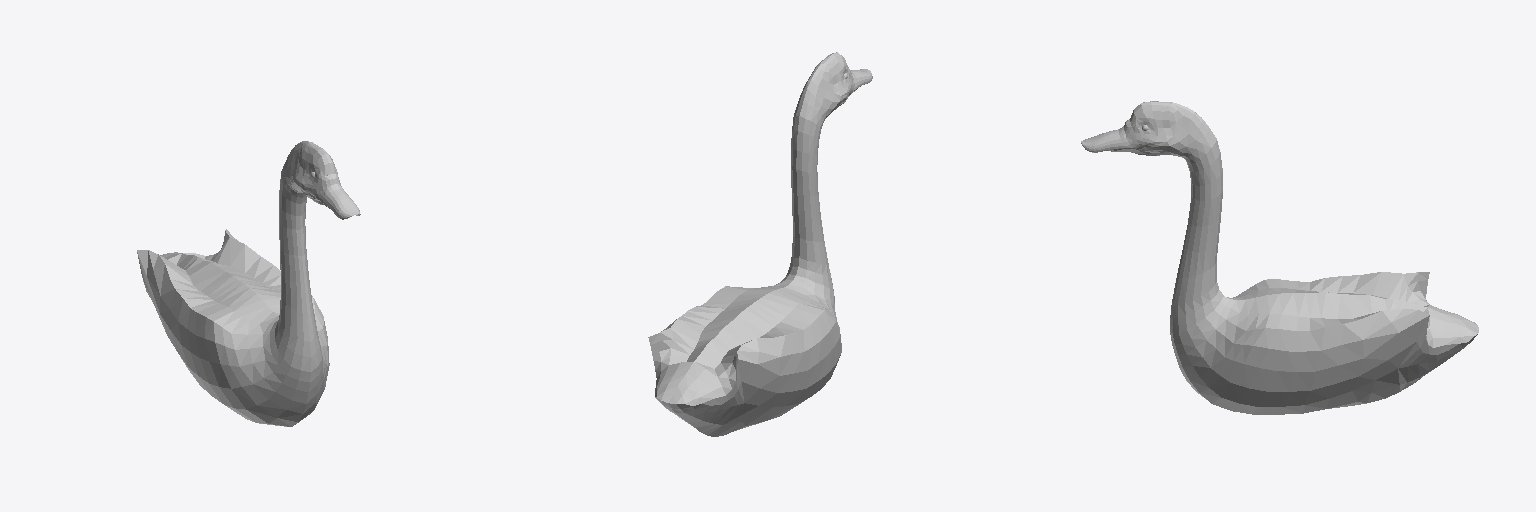
Rendered from swan.obj.
The picture shows the model from 3 angles: view 1: azimuth 30°, elevation 25°; view 2: azimuth 150°, elevation 25°; view 3: azimuth 270°, elevation 25°; orthographic projection.
Parts seen in each view (by area): view 1: default; view 2: default; view 3: default.
Boxes of the visible parts, box(x1,y1,x2,y2) form: default: box(137, 141, 360, 426); default: box(648, 52, 872, 436); default: box(1081, 101, 1478, 414).
Size of the model in its own units: 0.277 by 0.7115 by 0.8307.